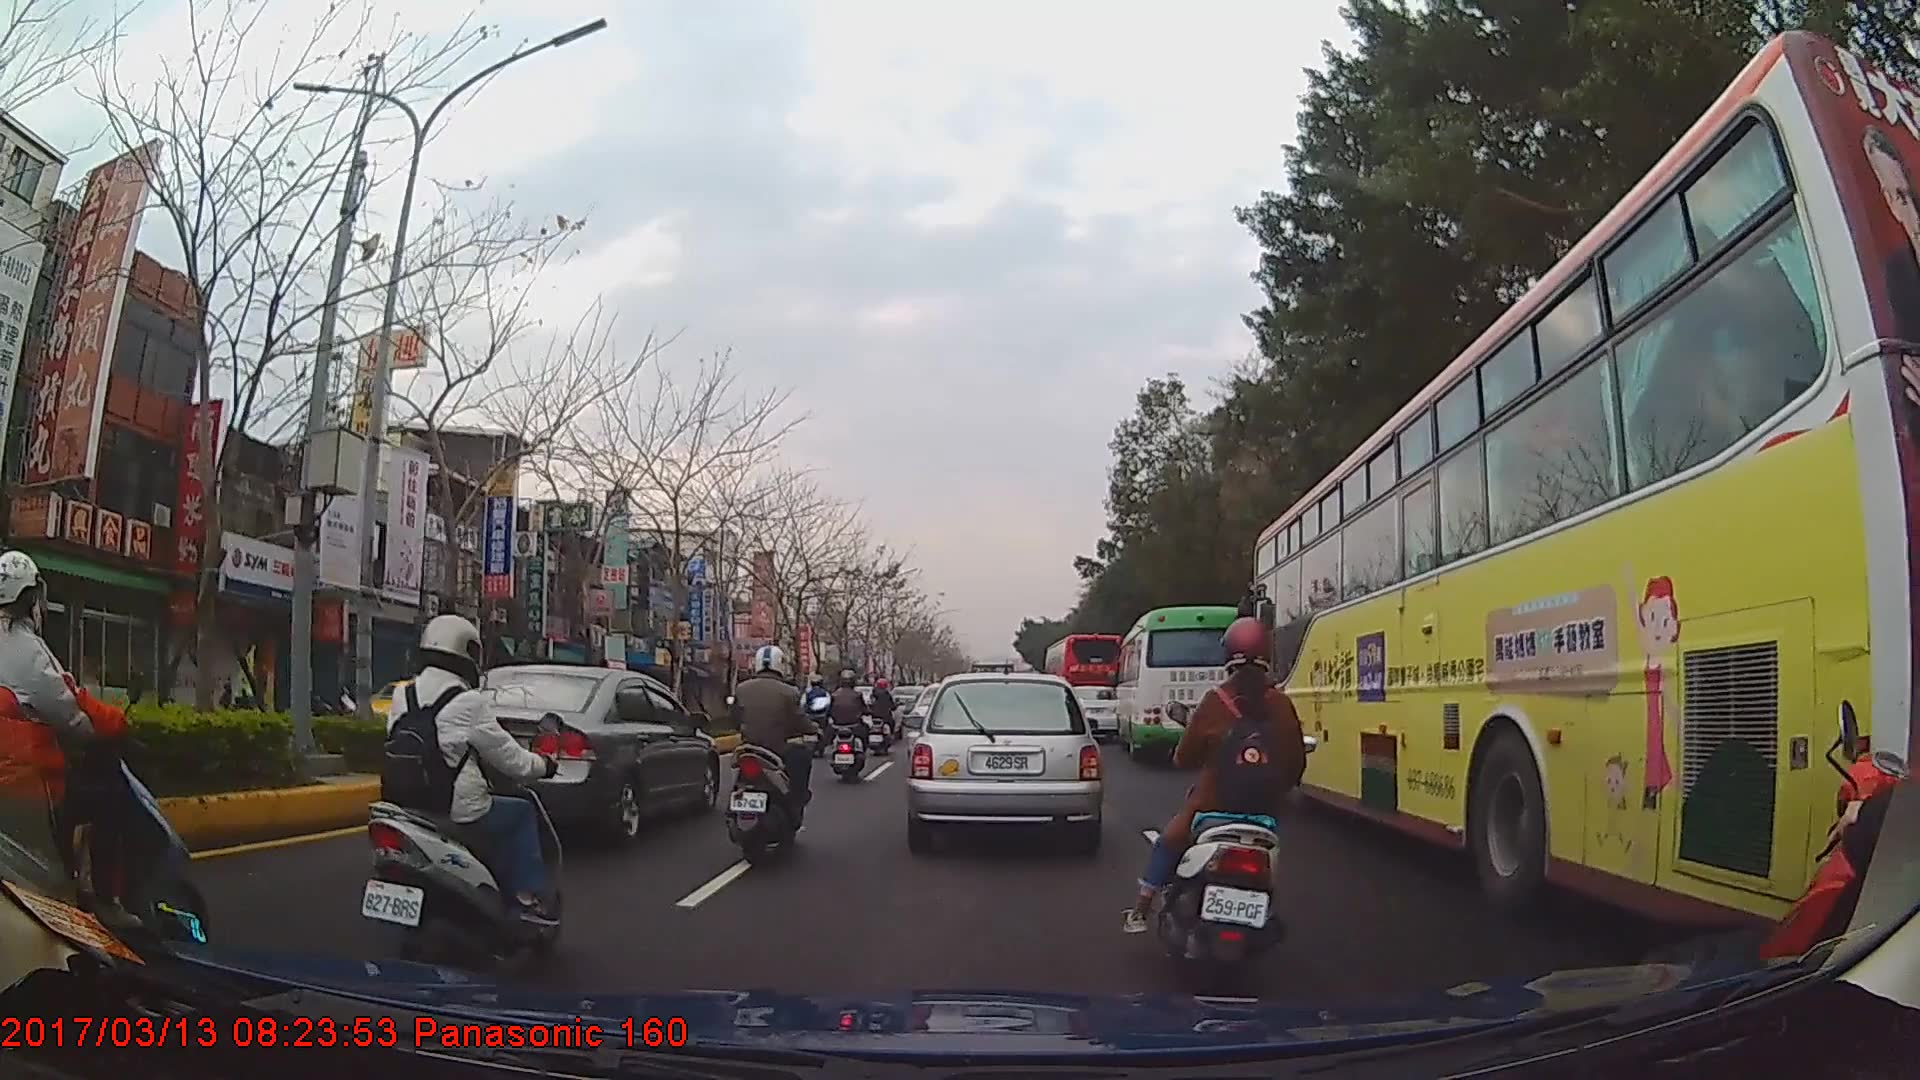rider: (1, 555, 209, 978), (359, 615, 572, 976), (1140, 617, 1319, 999), (728, 645, 826, 870), (828, 672, 868, 784), (867, 679, 898, 758), (802, 674, 836, 745)
vehicle: (1254, 28, 1919, 939), (403, 662, 720, 847), (908, 669, 1101, 847), (1115, 603, 1269, 761), (1045, 633, 1131, 735)
